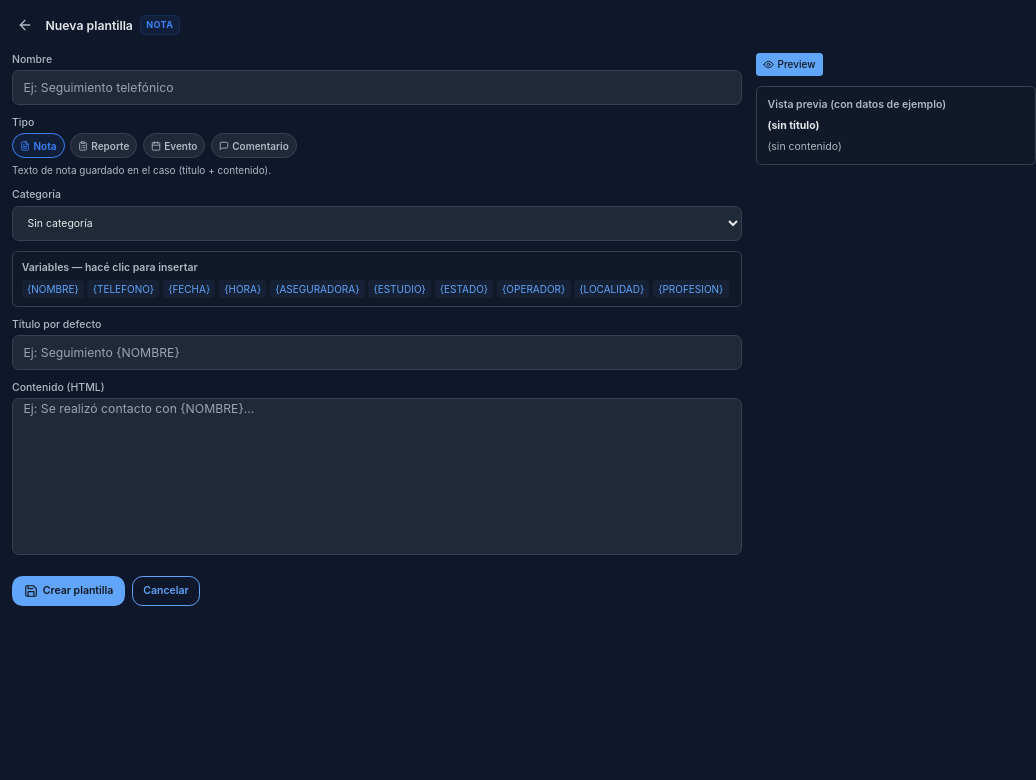
Test: PlantillaForm (1.10.1 — mejora del form) › cambiar el tipo a reporte muestra sus campos
Click the button "Reporte": (104, 146) [70, 133, 137, 158]
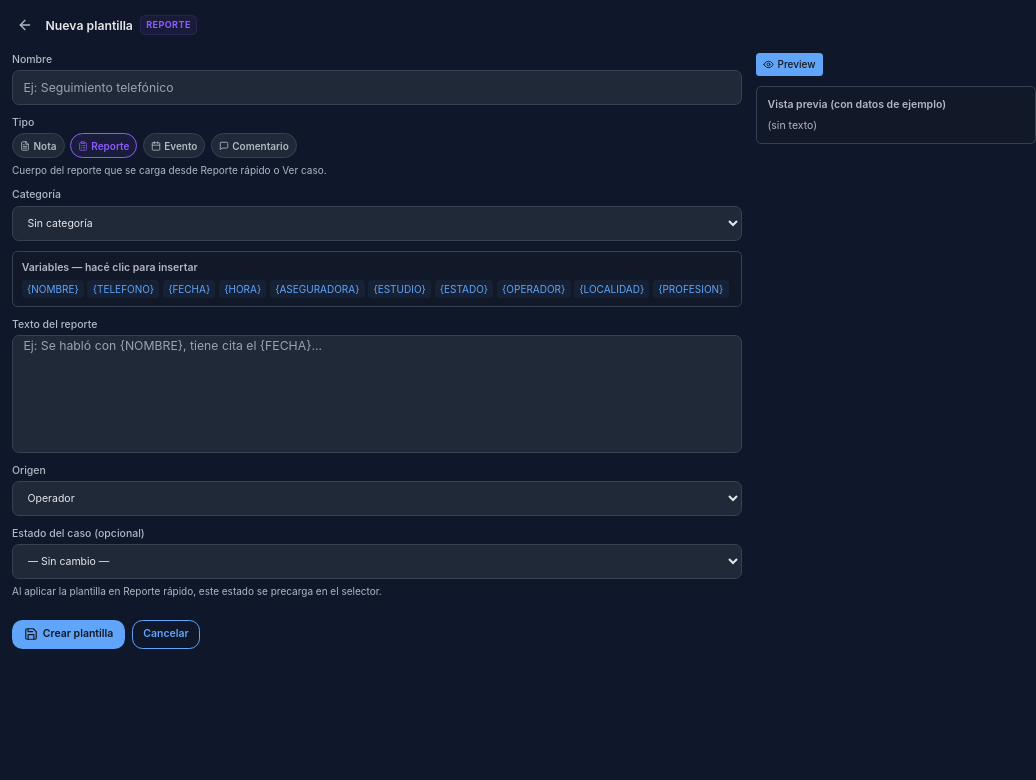
Expected: the text "Texto del reporte" is shown, [12, 318, 98, 331]
Expected: the text "Origen" is shown, [12, 464, 46, 477]
Expected: the text "Estado del caso (opcional)" is shown, [12, 527, 145, 540]
